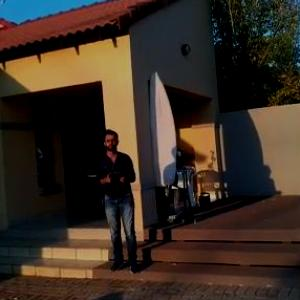follow: (96, 125, 145, 278)
